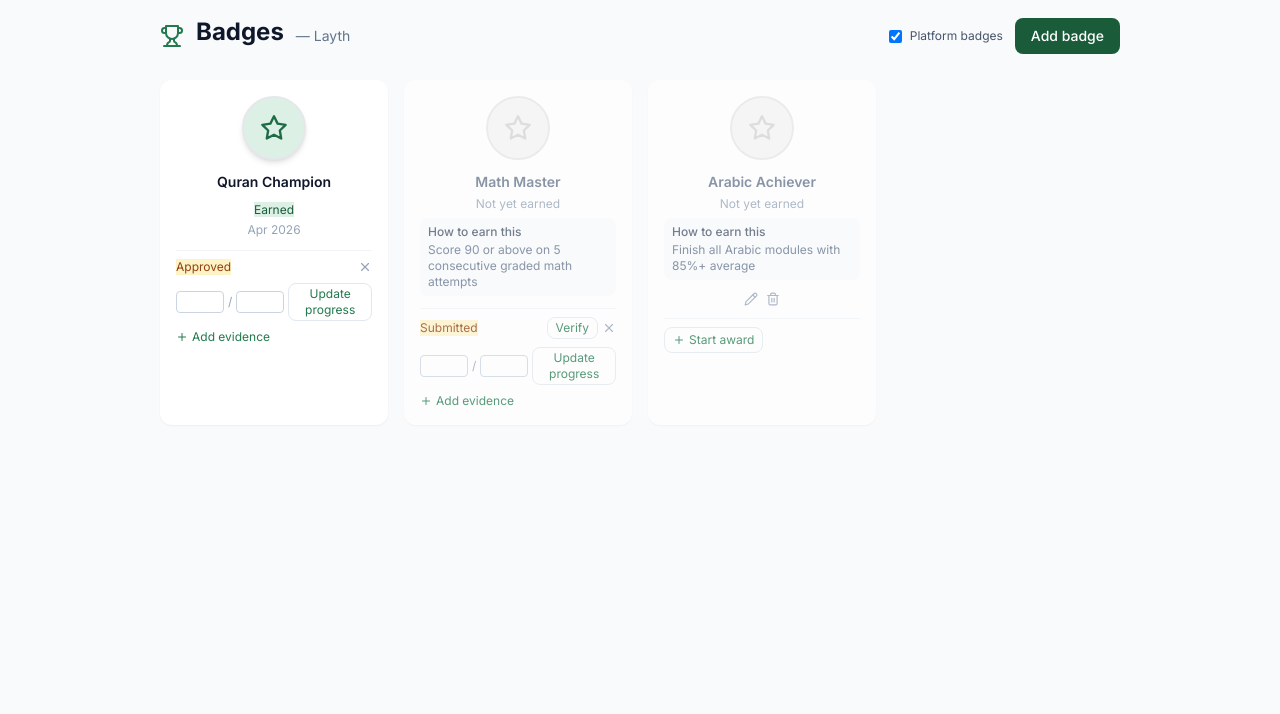
Test case: BadgesPage › shows a clearly labeled "Add badge" control in the list header that reveals the create form
expect the element with test id "badges-trophy-case" is shown: met, box [160,80,876,425]
Click the button "Add badge" at (1067, 36), box [1015,18,1120,54]
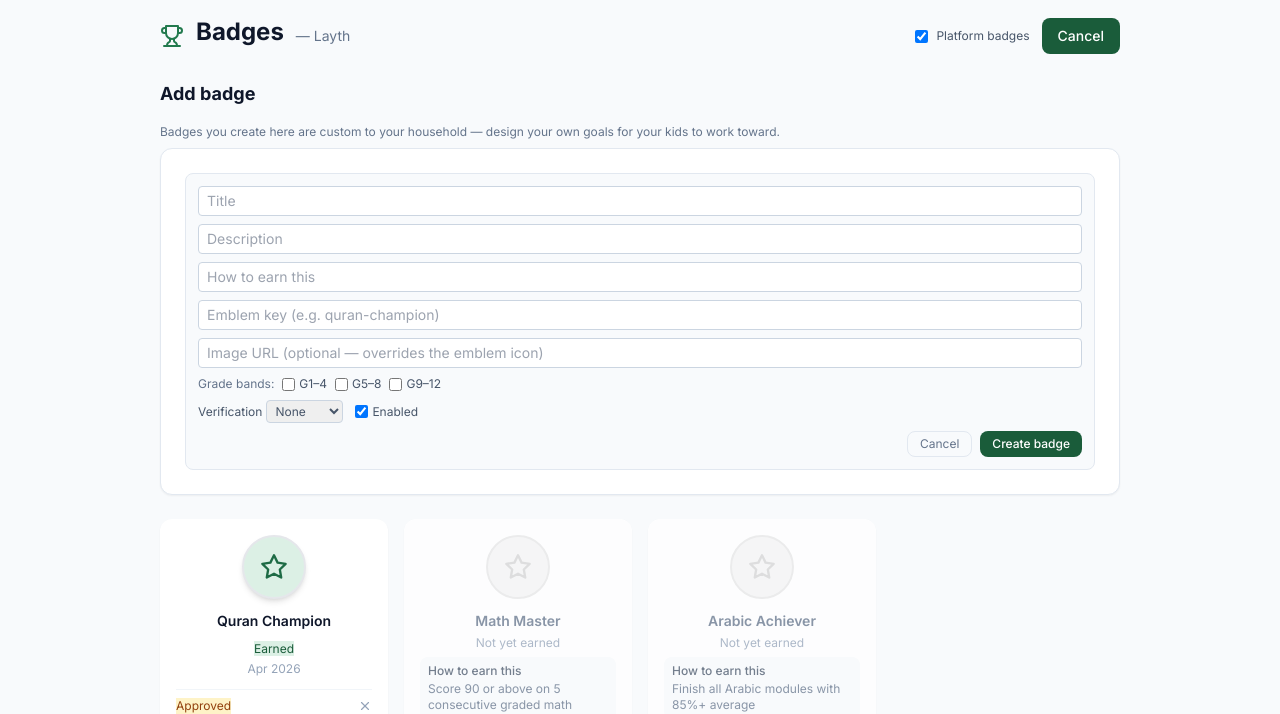
expect the element with test id "create-badge-form" is shown: met, box [160,80,1120,495]
expect the text "custom to your household" is shown: met, box [160,124,780,139]
expect the button named "Add badge" reads "Cancel": met, box [1042,18,1120,54]
